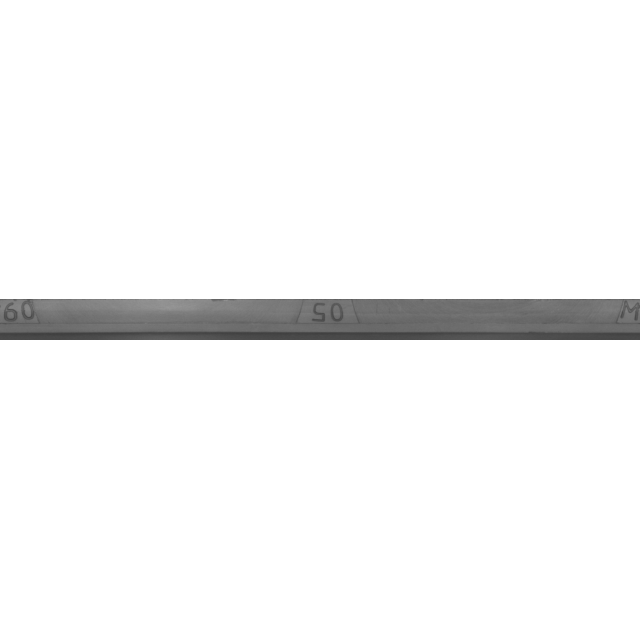mohao: (0, 270, 104, 370)
xuehao: (230, 270, 430, 370)
